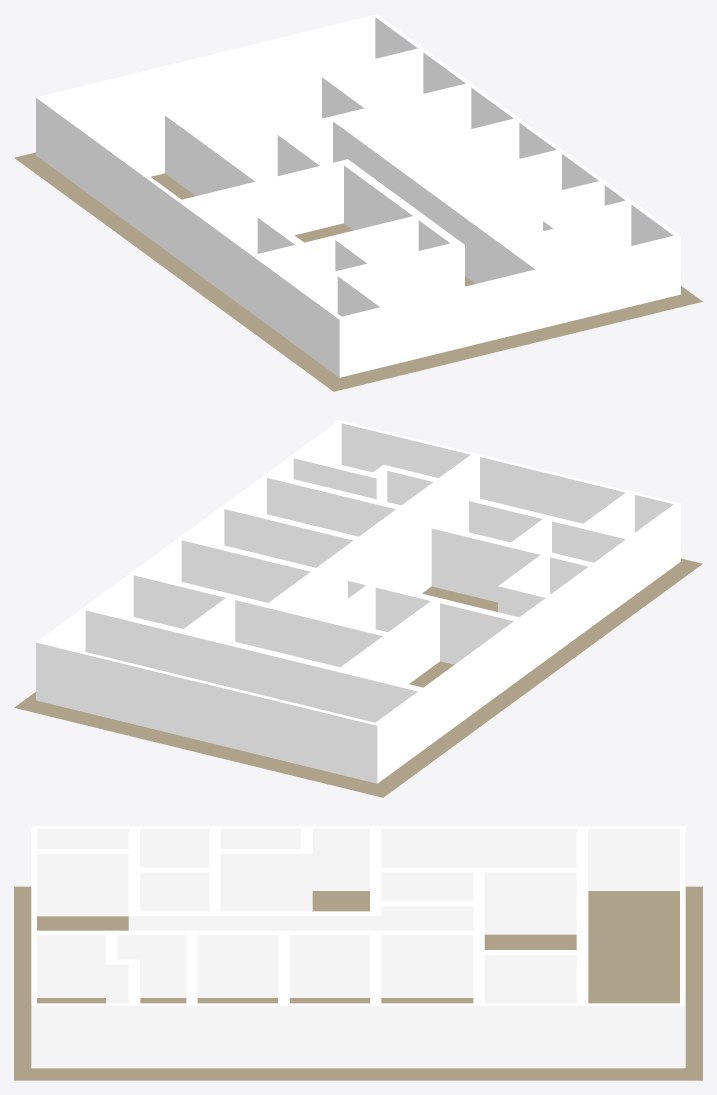
File: overview.gltf
The picture shows the model from 3 angles, top to bottom: view 1: azimuth 30°, elevation 25°; view 2: azimuth 150°, elevation 25°; view 3: azimuth 270°, elevation 25°; orthographic projection. The views are drawn at different scales.
Parts seen in each view (by area): view 1: inner_frontdesk, inner_inpatient, inner_treatment, inner_lab, floor, inner_speciality, inner_document, inner_inpatientManage, inner_surgery, inner_prepare, inner_pharmacy, inner_consult1 (+5 smaller); view 2: inner_inpatient, inner_frontdesk, inner_lab, floor, inner_speciality, inner_inpatientManage, inner_surgery, inner_treatment, inner_prepare, inner_pharmacy, inner_consult1, inner_document (+5 smaller); view 3: floor, inner_frontdesk, inner_inpatient, inner_surgery, inner_treatment, inner_dissecting, inner_pharmacy, inner_prepare, inner_speciality, inner_lab, inner_injection, inner_inpatientManage (+5 smaller).
Boxes of the visible parts, bbox=[...] form: inner_frontdesk: bbox=[280, 118, 542, 365]; inner_inpatient: bbox=[36, 14, 424, 189]; inner_treatment: bbox=[506, 201, 680, 327]; inner_lab: bbox=[83, 112, 262, 260]; floor: bbox=[14, 152, 702, 391]; inner_speciality: bbox=[179, 162, 419, 283]; inner_document: bbox=[291, 273, 387, 377]; inner_inpatientManage: bbox=[167, 74, 371, 147]; inner_surgery: bbox=[335, 84, 520, 152]; inner_prepare: bbox=[383, 119, 563, 184]; inner_pharmacy: bbox=[425, 150, 605, 215]; inner_consult1: bbox=[254, 237, 374, 342]; inner_inpatient: bbox=[36, 607, 425, 783]; inner_frontdesk: bbox=[271, 454, 632, 619]; inner_lab: bbox=[342, 600, 521, 748]; floor: bbox=[14, 558, 702, 797]; inner_speciality: bbox=[355, 525, 553, 677]; inner_inpatientManage: bbox=[185, 597, 389, 670]; inner_surgery: bbox=[132, 537, 317, 605]; inner_treatment: bbox=[292, 420, 477, 480]; inner_prepare: bbox=[180, 506, 360, 570]; inner_pharmacy: bbox=[223, 475, 402, 539]; inner_consult1: bbox=[513, 518, 633, 623]; inner_document: bbox=[585, 492, 680, 595]; floor: bbox=[14, 886, 702, 1080]; inner_frontdesk: bbox=[31, 851, 478, 932]; inner_inpatient: bbox=[582, 826, 685, 1068]; inner_surgery: bbox=[375, 933, 478, 1068]; inner_treatment: bbox=[31, 933, 134, 1068]; inner_dissecting: bbox=[479, 952, 582, 1068]; inner_pharmacy: bbox=[192, 933, 283, 1068]; inner_prepare: bbox=[284, 933, 375, 1068]; inner_speciality: bbox=[215, 826, 375, 913]; inner_lab: bbox=[375, 826, 582, 869]; inner_injection: bbox=[111, 933, 191, 1068]; inner_inpatientManage: bbox=[479, 870, 582, 952].
Bounding box in the file's own units: 20 × 3.25 × 30.
